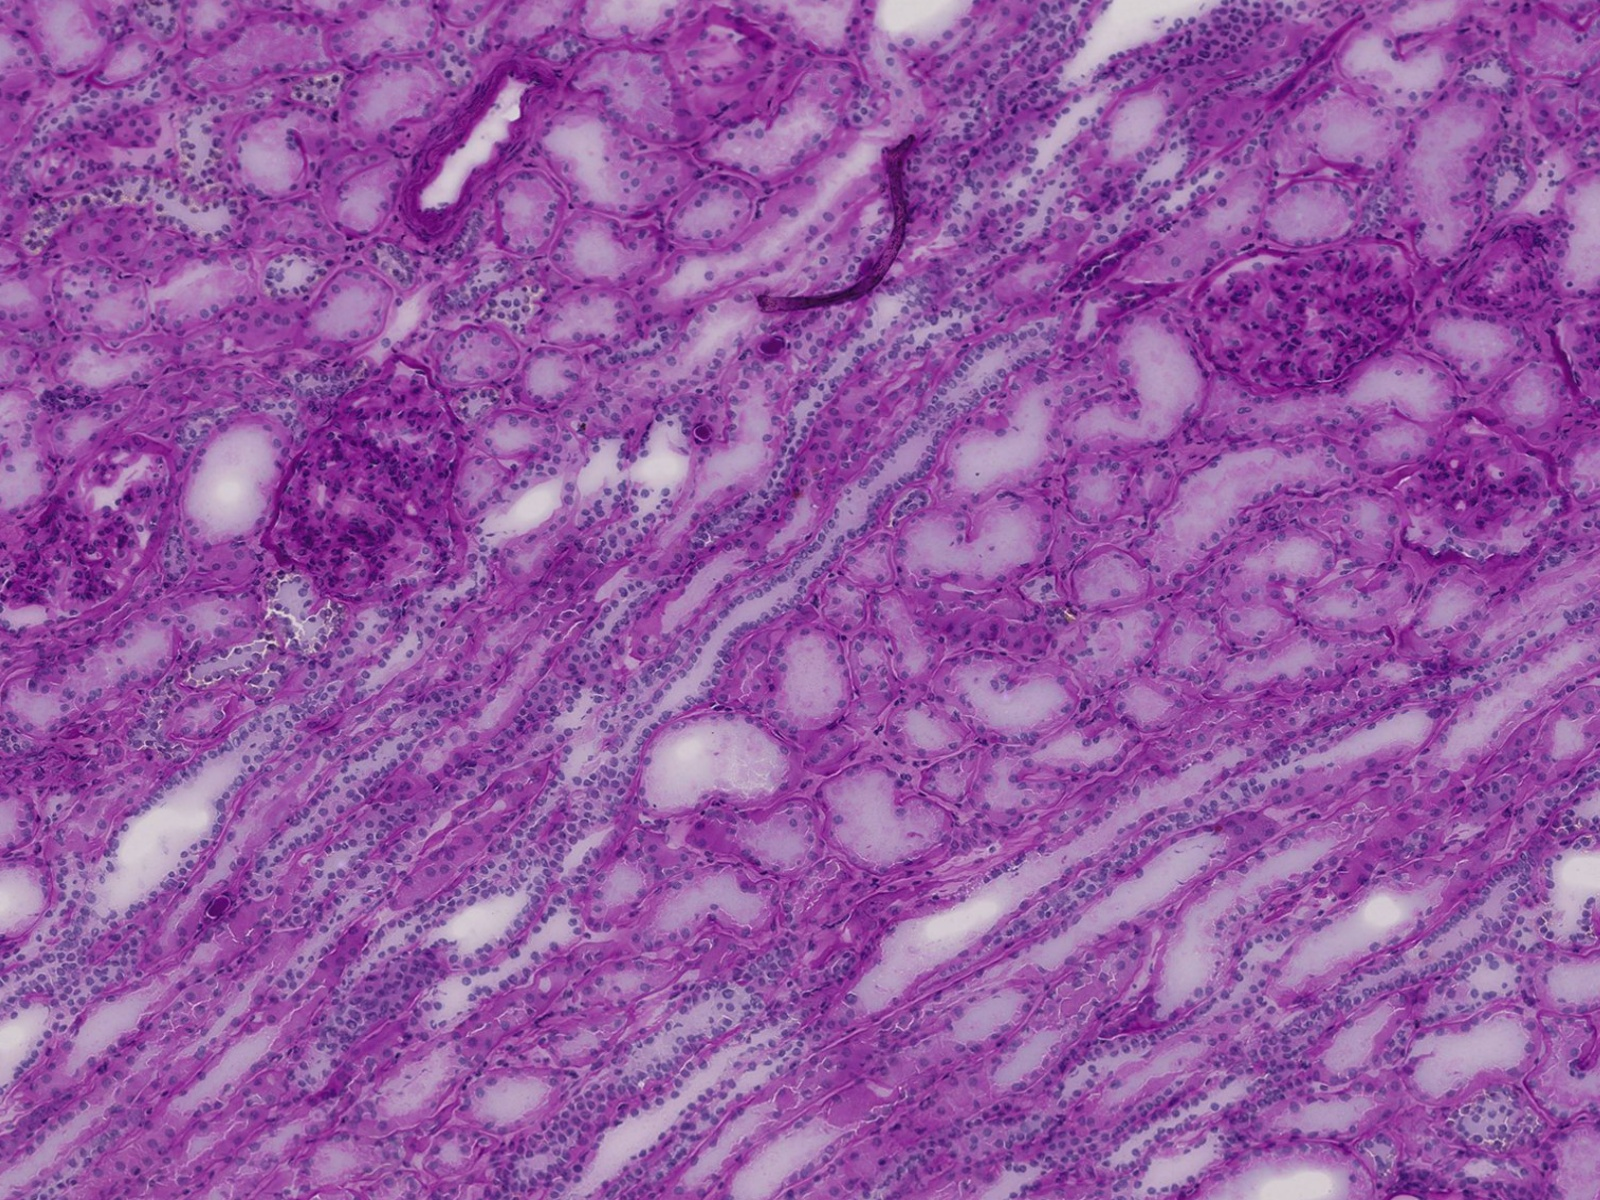Glomeruli: (260, 345, 467, 596), (1189, 238, 1424, 402), (1, 426, 183, 619), (1383, 411, 1569, 567)
